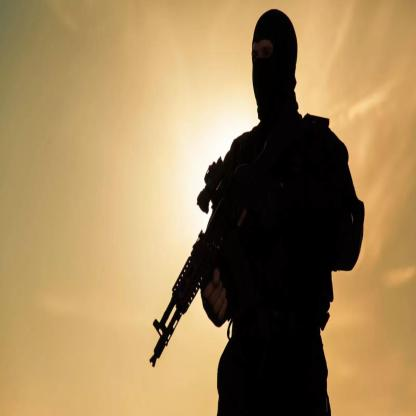rifle: (149, 136, 270, 375)
